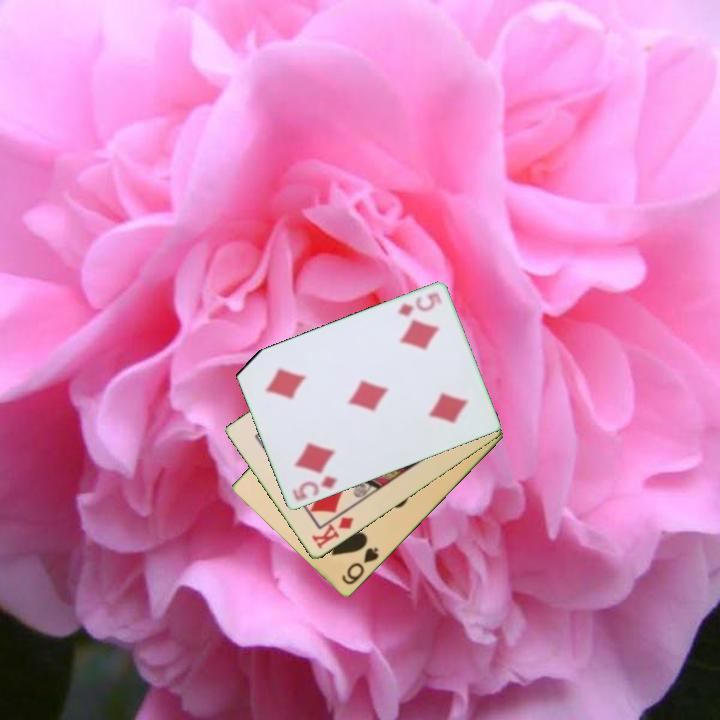5d: (289, 472, 341, 504), (394, 289, 445, 320)
6s: (338, 544, 382, 588)
Kd: (308, 514, 356, 552)
